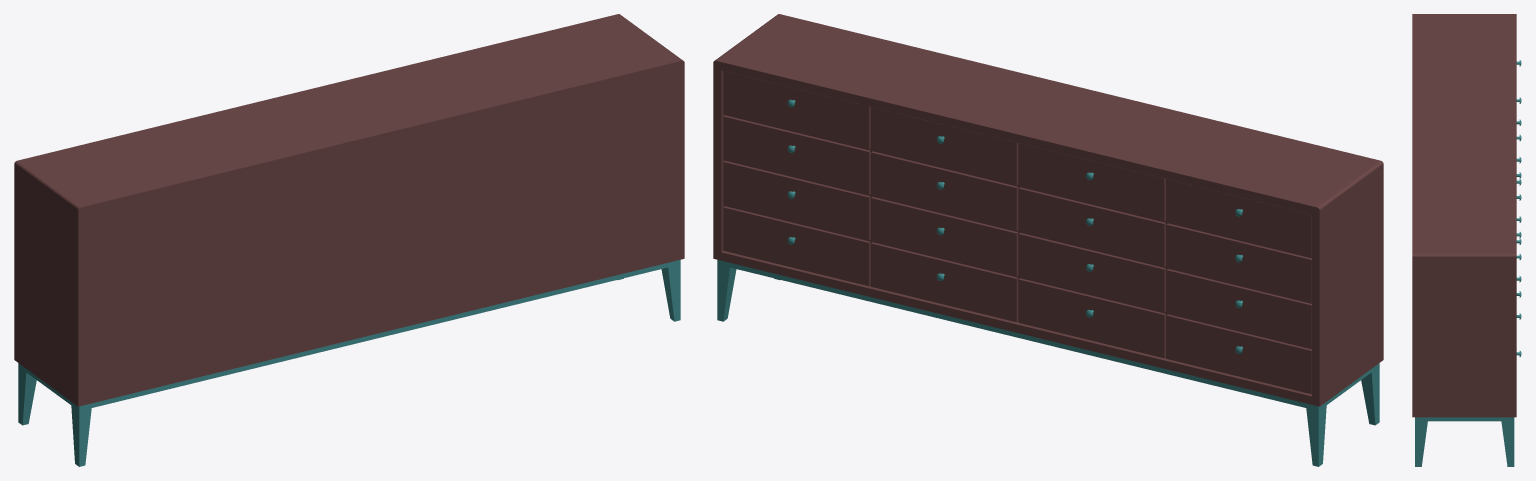
The picture shows the model from 3 angles, left to right: view 1: azimuth 30°, elevation 25°; view 2: azimuth 150°, elevation 25°; view 3: azimuth 270°, elevation 25°; orthographic projection. The views are drawn at different scales.
Visible parts, largest first — view 1: polySurface181; view 2: polySurface181; view 3: polySurface181.
Boxes of the visible parts, x1,y1,x2,y2 form: polySurface181: (14, 14, 684, 466); polySurface181: (713, 14, 1383, 466); polySurface181: (1412, 14, 1521, 466).
Bounding box in the file's own units: 236 × 96.8 × 44.92.
